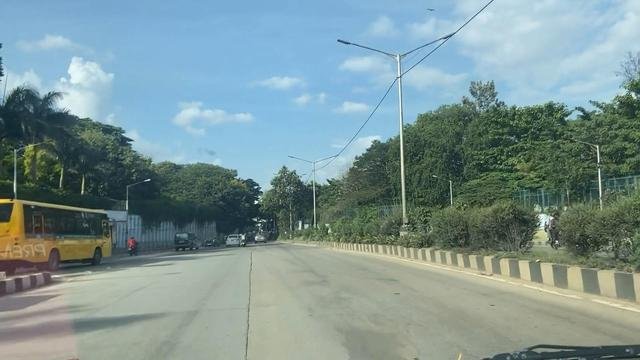RoadDamages: (241, 248, 262, 360)
